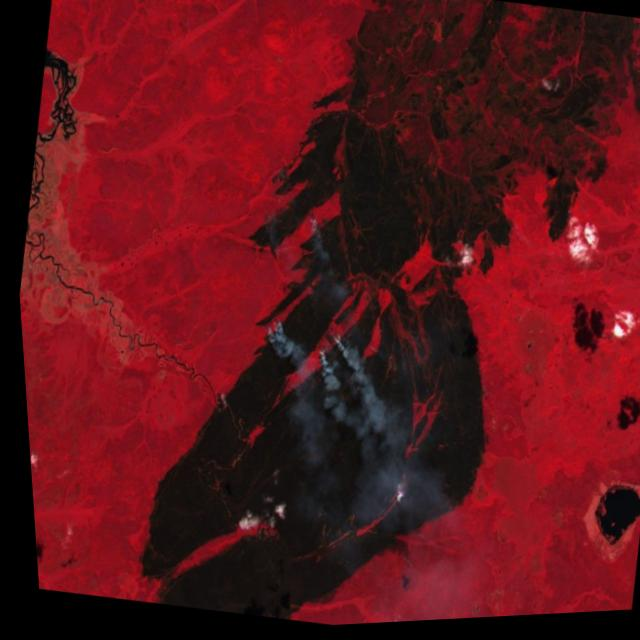fire: (303, 318, 357, 396), (246, 303, 289, 359), (296, 207, 331, 261)
